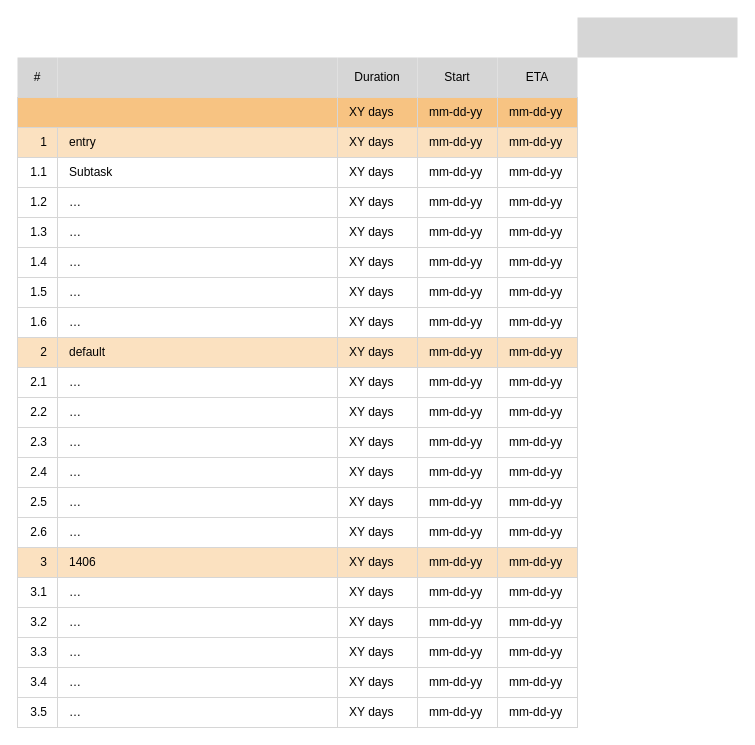
Image size: 755x745. Some labels were removed from this diagram. The shapes that lost their labels are listed below. From the top down, each one's box as (x1, y1, x2, y2) in pixels, then its label:
(577, 17, 737, 57): Timeline
(57, 57, 337, 97): PSMD
(16, 96, 578, 128): Complete project execution
